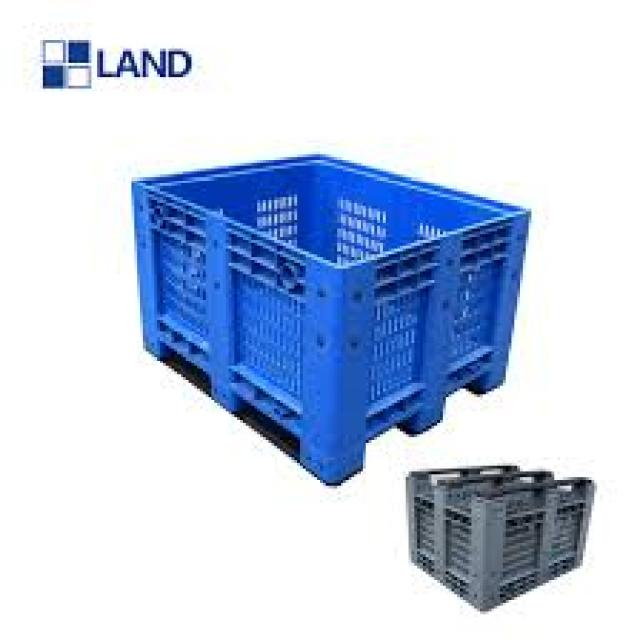basket: (93, 128, 535, 506), (409, 469, 597, 611)
